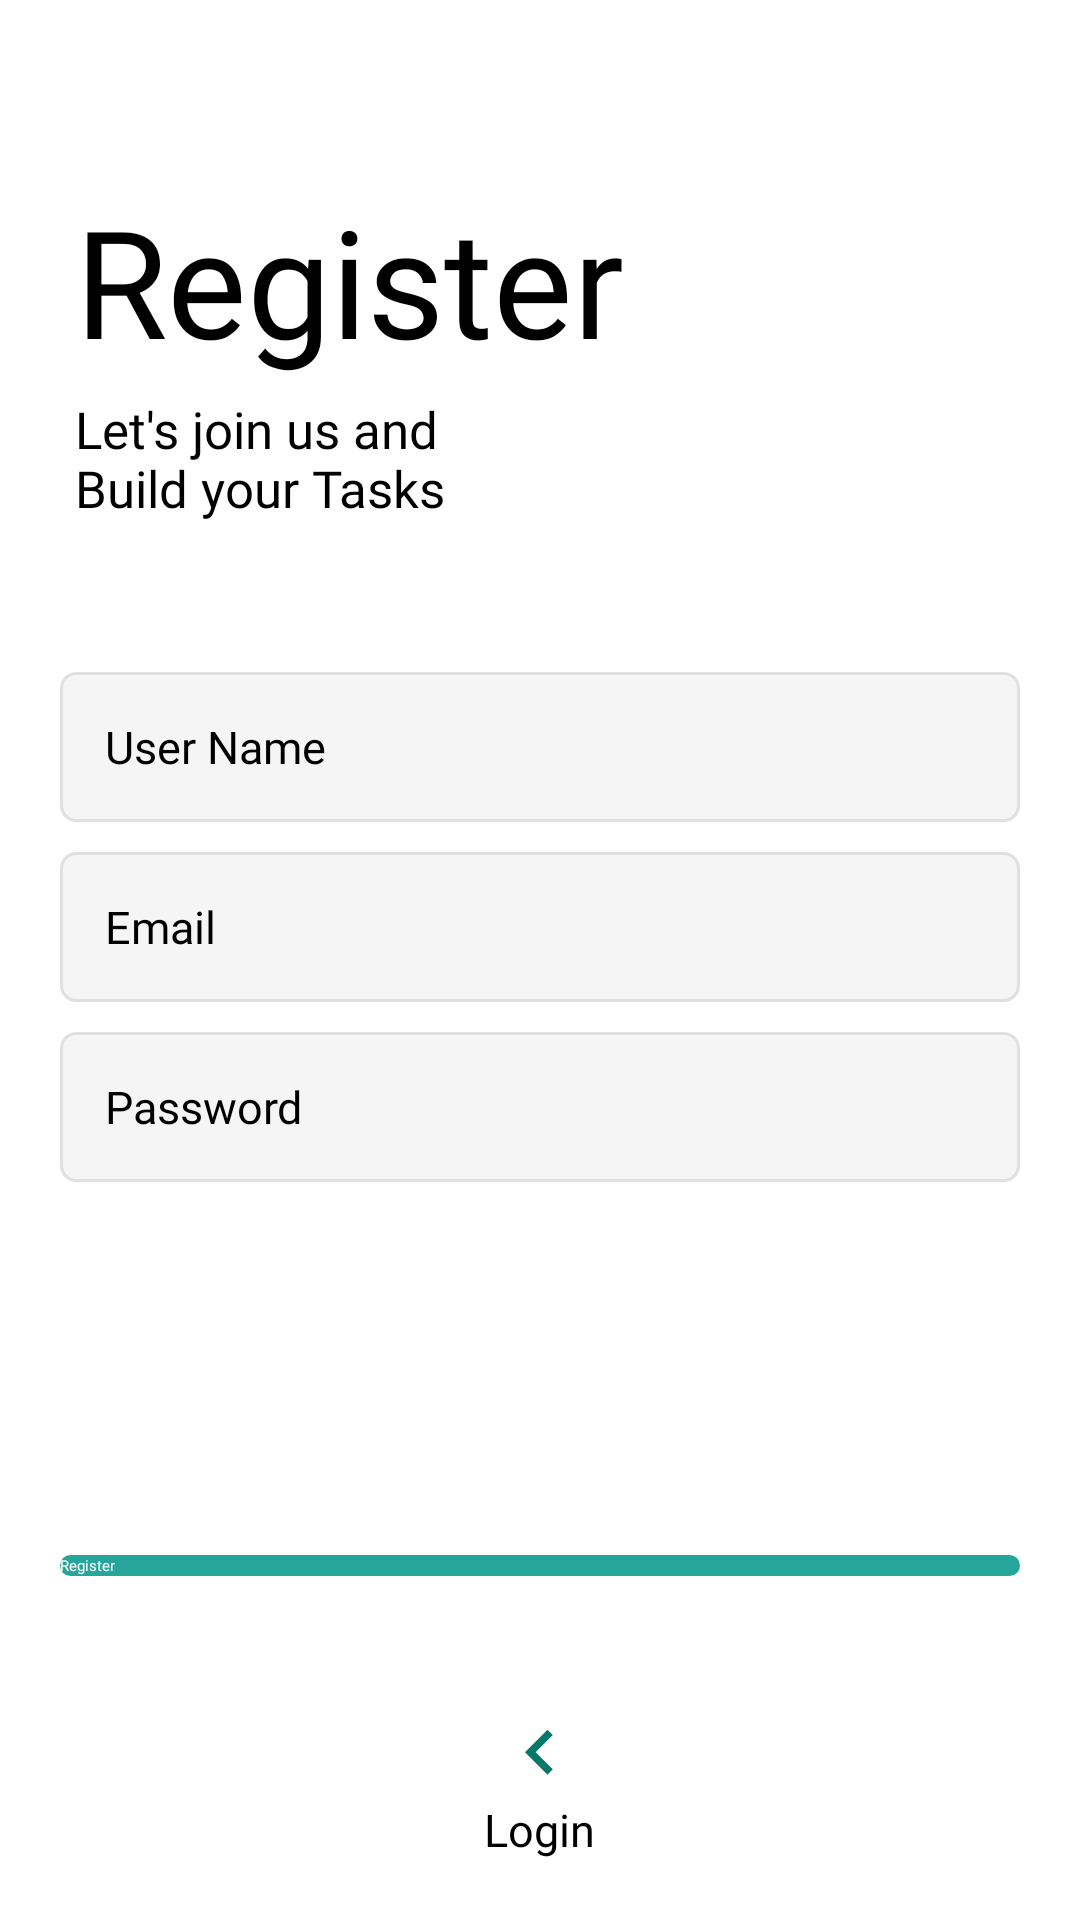

Icon click points for this 1080*1920 phone screenshot, format [x,y]:
arrow left: [539,1752]
